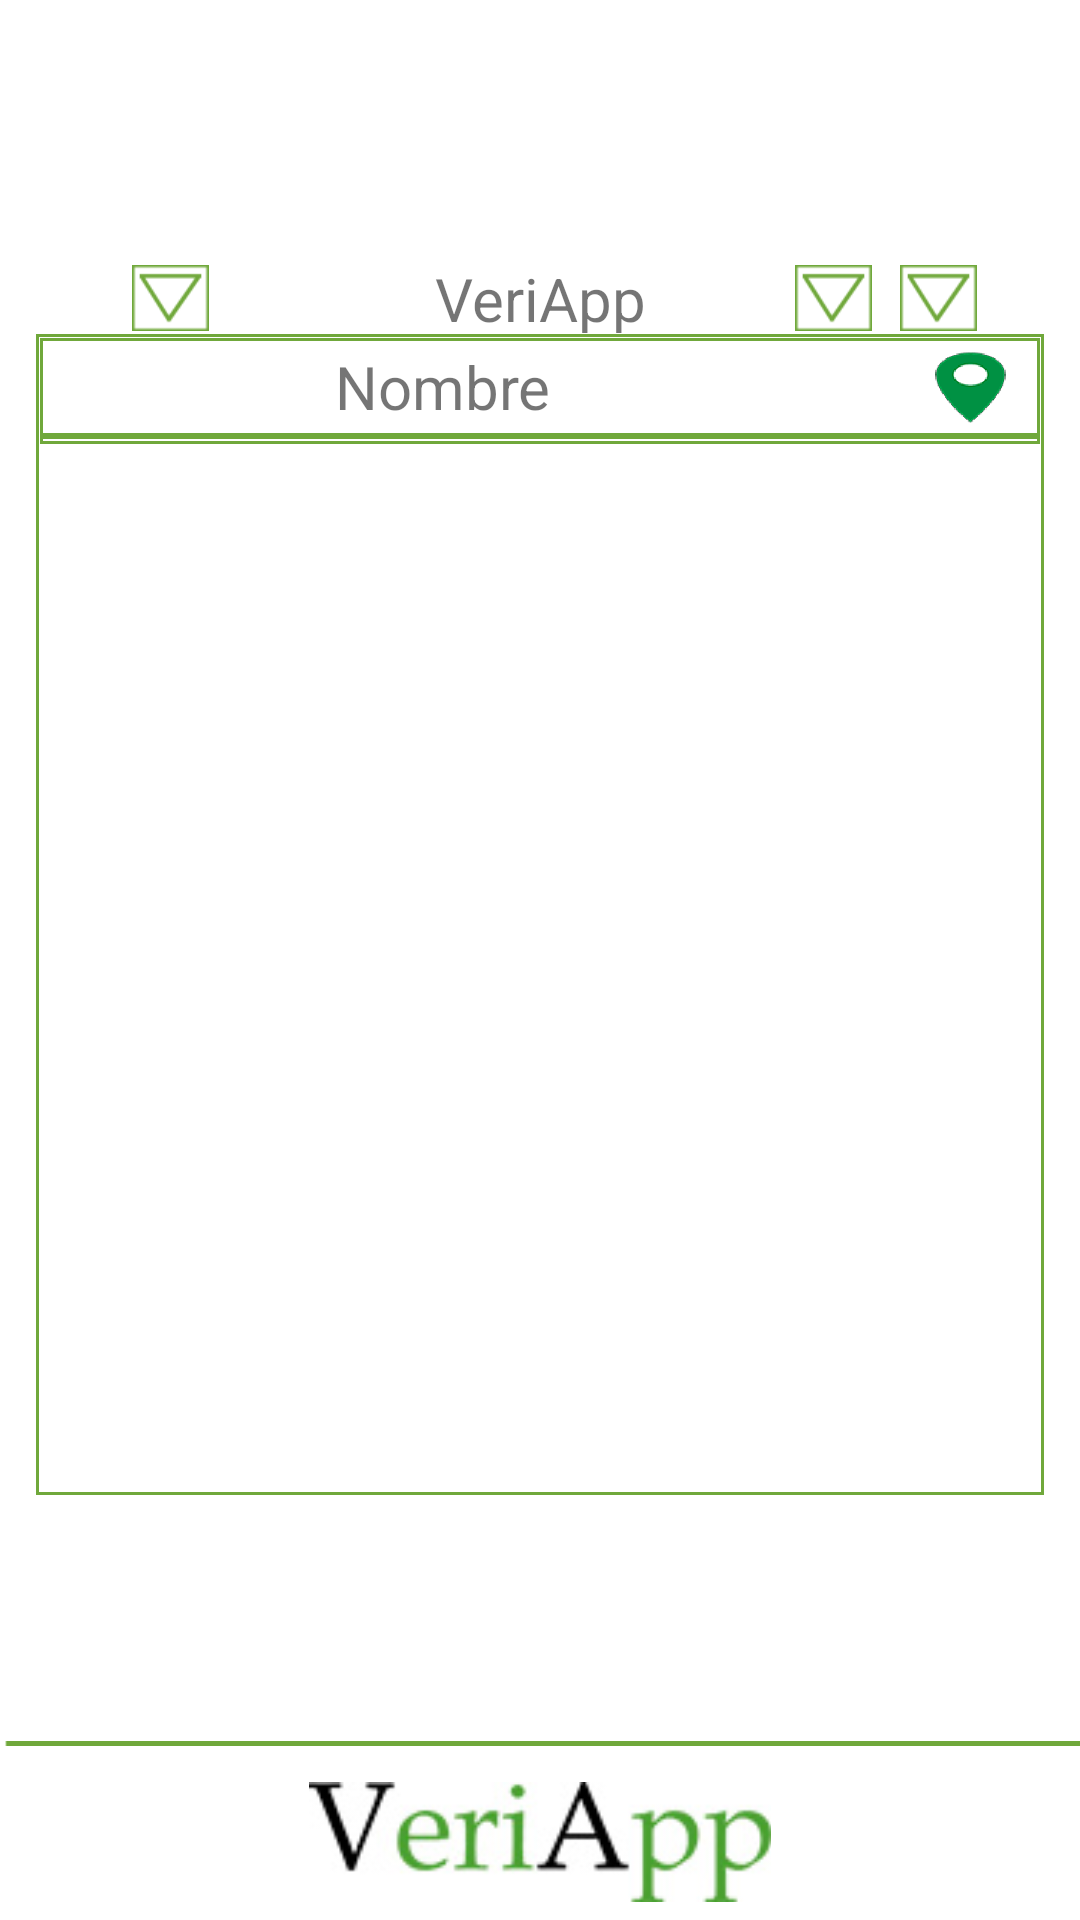

Icons on this 1080px×1920px Android screen, each with the point to tap as [x,y]:
ubi: [970,387]
